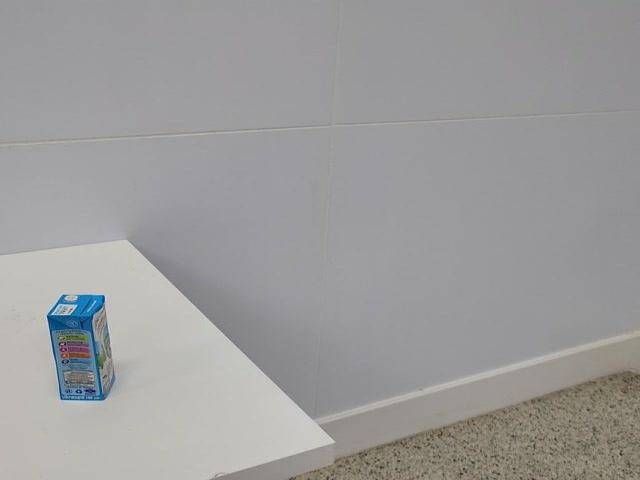drink_box: (38, 283, 128, 411)
